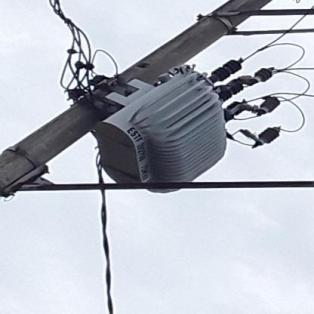Poste: (0, 0, 314, 188)
